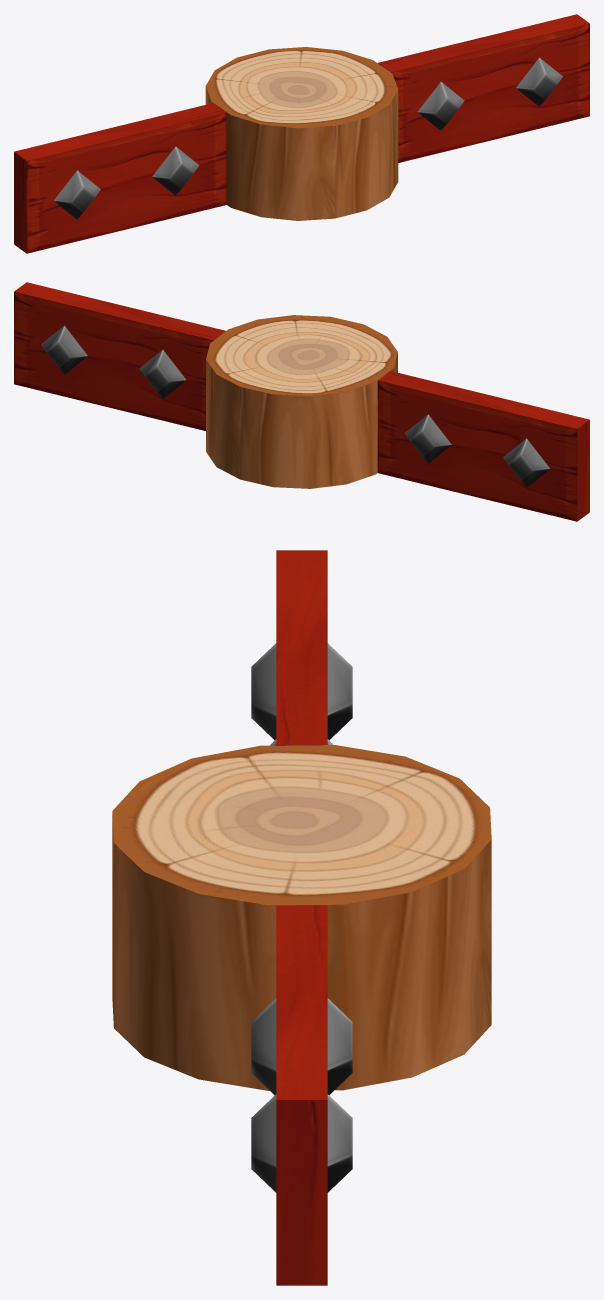
The model's file is two_blade_red_01.fbx.
3 renders of one model, top to bottom at view 1: azimuth 30°, elevation 25°; view 2: azimuth 150°, elevation 25°; view 3: azimuth 270°, elevation 25°, orthographic. The views are drawn at different scales.
Visible parts, largest first — view 1: two_blade_red_01; view 2: two_blade_red_01; view 3: two_blade_red_01.
Part boxes in pixels (<box>): two_blade_red_01: <box>14,14,589,253</box>; two_blade_red_01: <box>14,282,589,521</box>; two_blade_red_01: <box>112,550,491,1285</box>.
Size of the model in its own units: 254 by 40 by 74.15.
